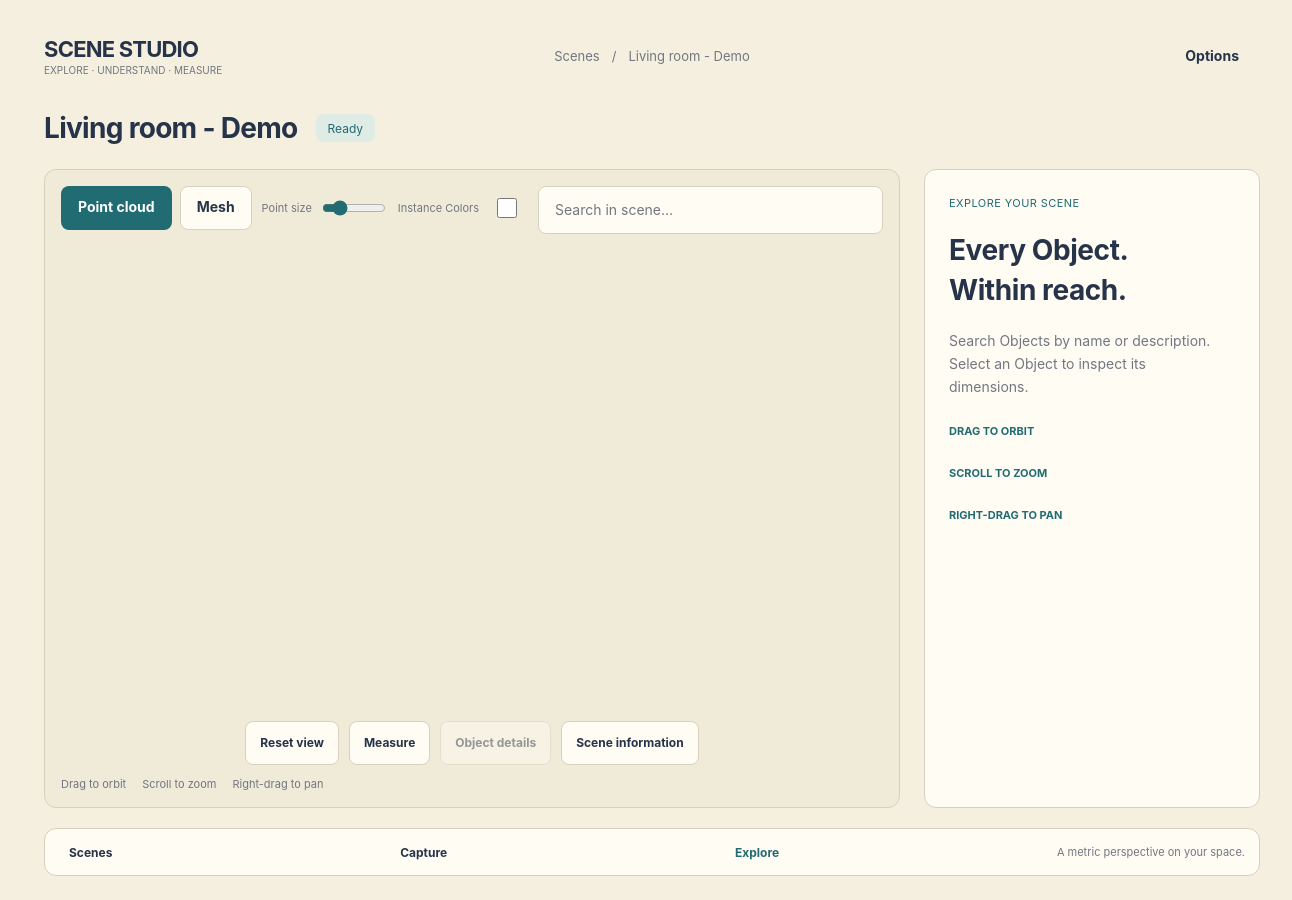
shared navigation tracks the Scene and capture routes
Expected: the button "Options" is shown, [1164,34,1260,78]
Click the link "Capture". click: (424, 852)
box: [400,844,447,860]
(page scrolled)
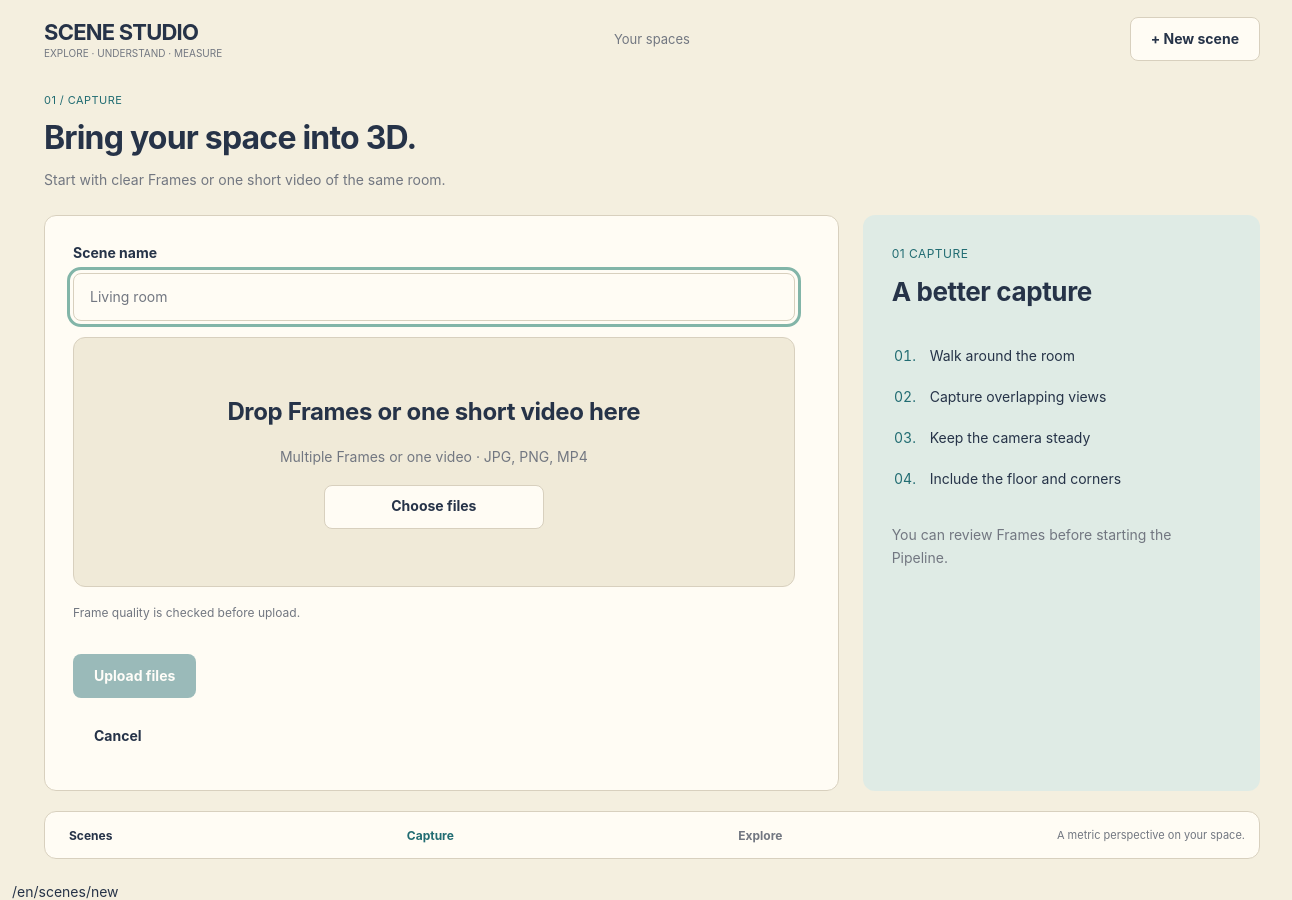
Now the field labelled "Scene name" is shown, box [73,273,795,321]
Now the text with test id "path" reads "/en/scenes/new", box [12,883,119,899]
